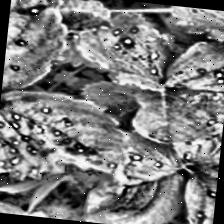Leaf Spot: (0, 87, 140, 195), (79, 125, 189, 224), (67, 18, 176, 92), (0, 0, 73, 109), (127, 82, 224, 150), (169, 87, 224, 178), (161, 6, 224, 74), (163, 35, 224, 96), (178, 169, 218, 224)
